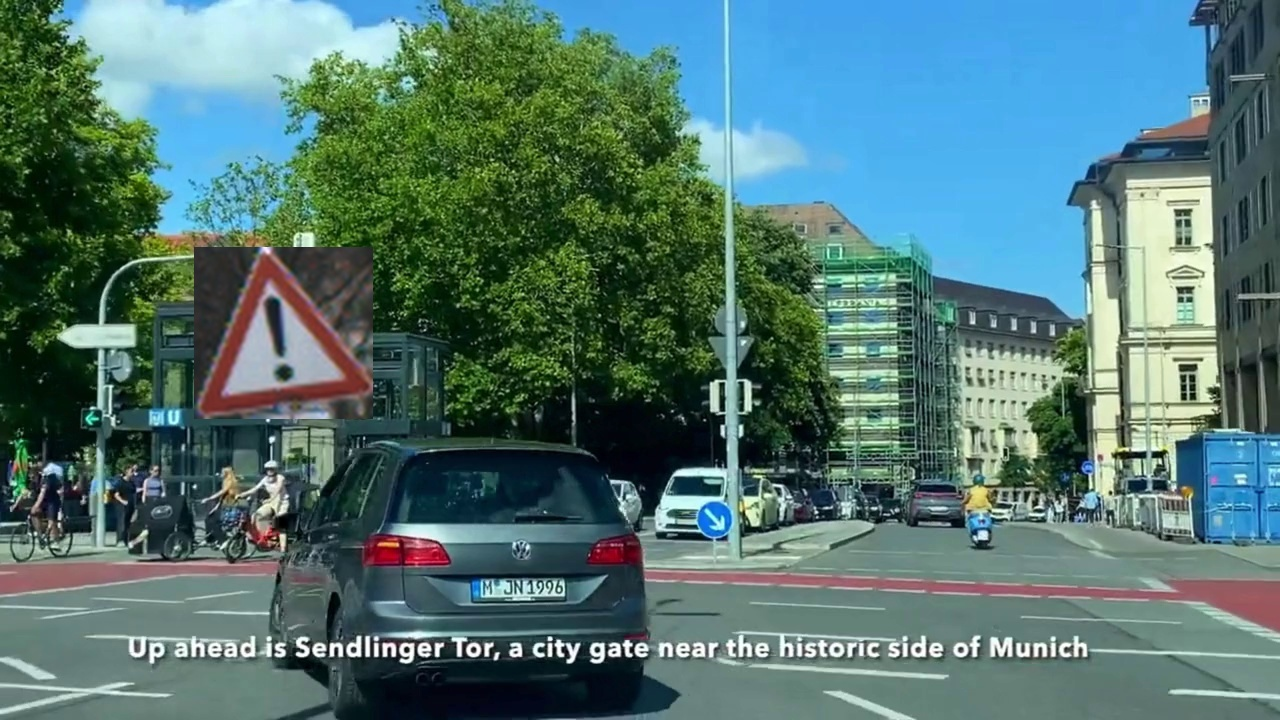Caution: (194, 247, 373, 419)
